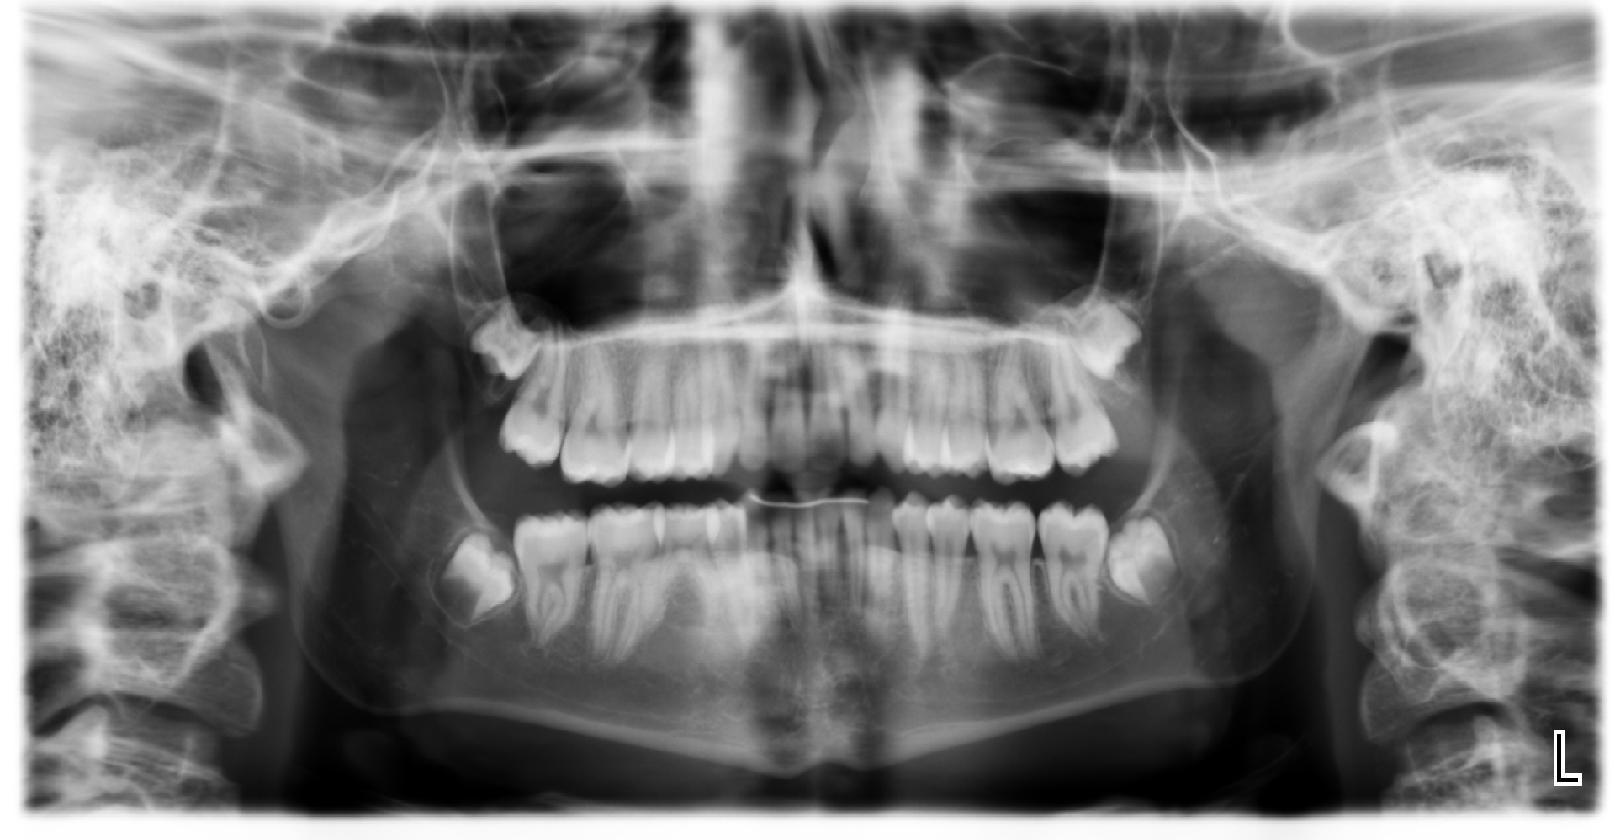Mesio-angular: (432, 520, 520, 631), (1109, 514, 1192, 624)
